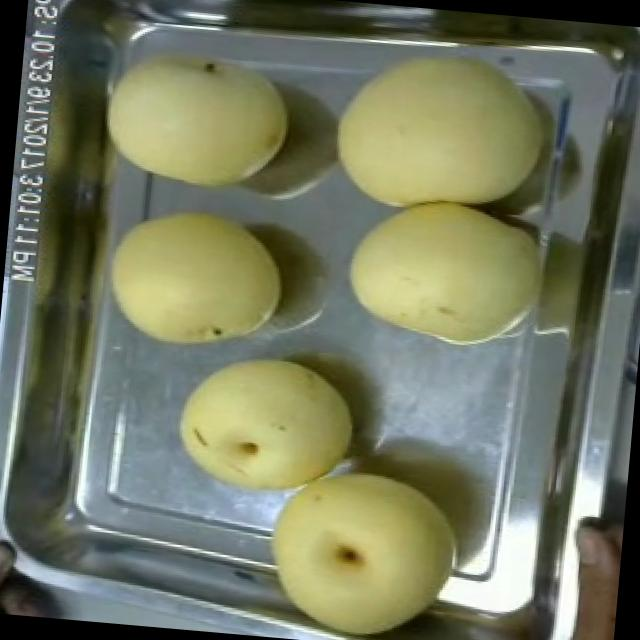Fruit: (314, 30, 558, 233), (243, 443, 475, 640), (86, 26, 304, 209), (158, 331, 372, 516), (85, 188, 298, 371), (328, 190, 552, 363)
